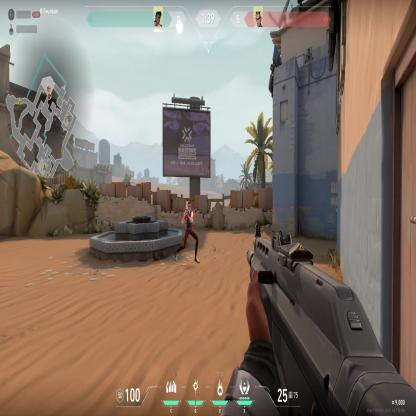enemy: (174, 199, 200, 266)
